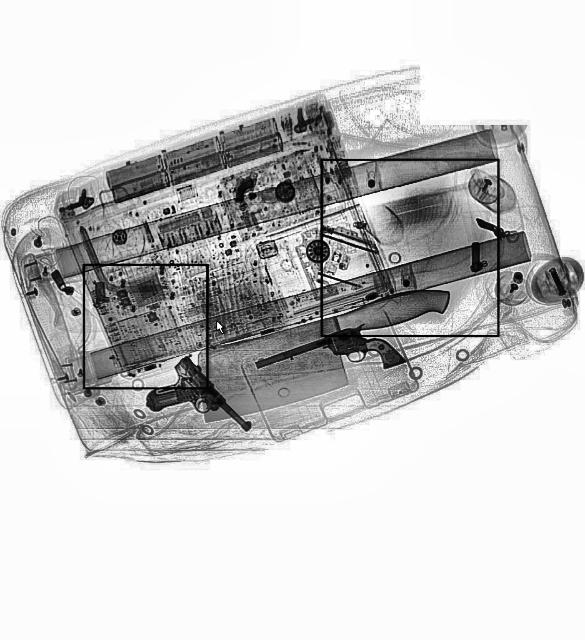Gun: (252, 312, 406, 410), (138, 353, 253, 467)
Knife: (186, 278, 467, 426)
